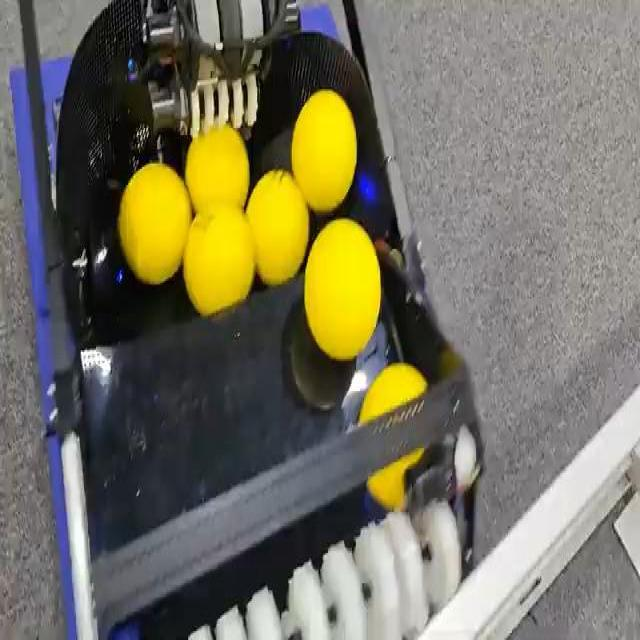Fuel: (304, 219, 380, 359), (304, 219, 380, 358), (118, 163, 190, 283), (118, 164, 191, 282), (291, 90, 357, 211), (291, 89, 356, 211), (183, 202, 253, 314), (184, 206, 255, 316), (246, 170, 308, 284), (247, 170, 309, 284), (185, 125, 250, 216), (185, 125, 249, 212), (359, 362, 426, 427), (359, 363, 426, 423), (368, 451, 421, 512), (248, 167, 287, 222), (183, 214, 208, 298), (184, 133, 204, 207), (200, 198, 246, 224), (176, 173, 193, 230), (158, 152, 175, 171)
